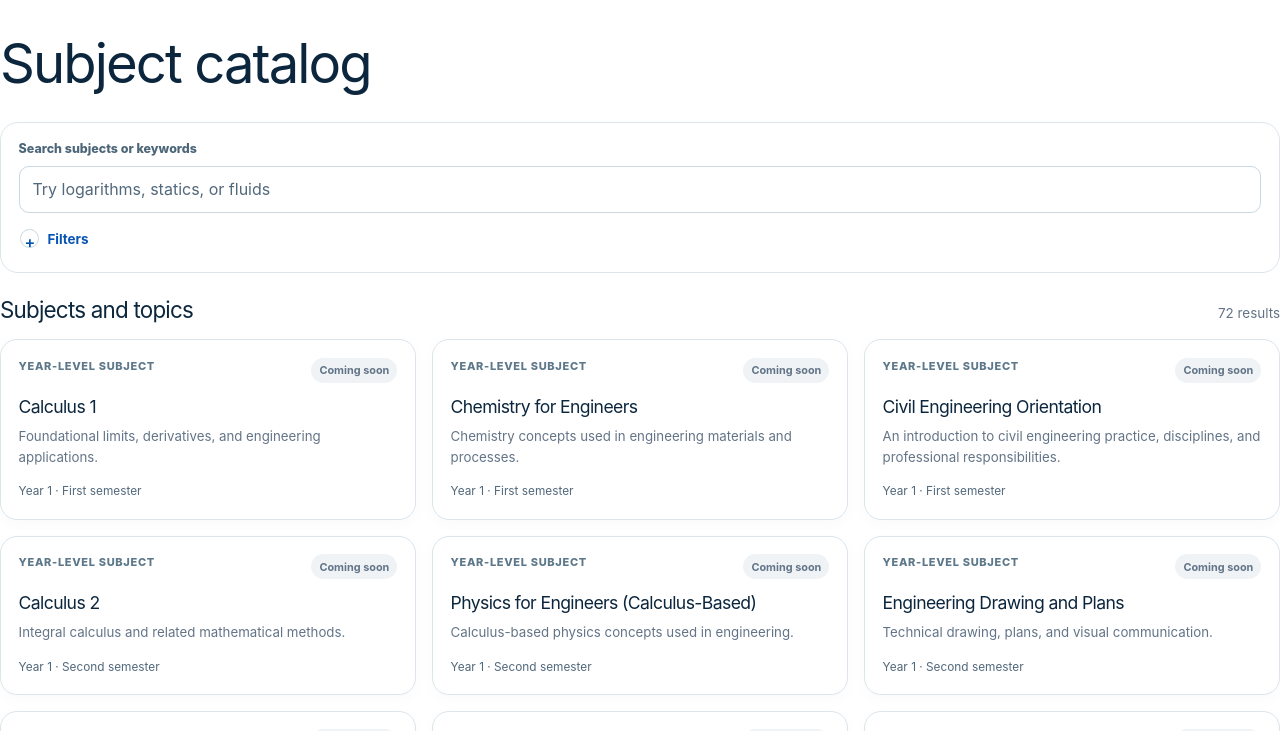
Scenario: catalog pages › filters unassigned math foundations and clears all filter values
Click the heading "Filters" at (54, 239), box left=19, top=223, right=90, bottom=254
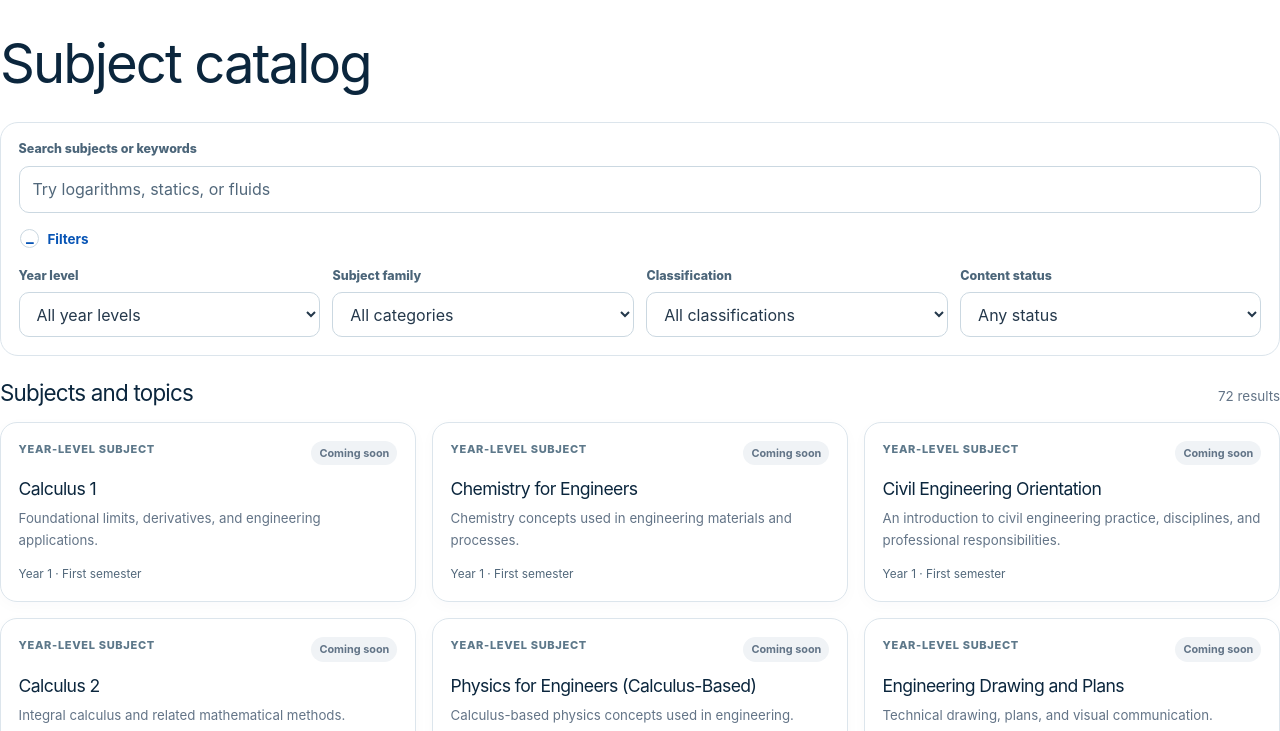
Select "Not assigned to a year" in the dropdown labelled "Year level" at (169, 315), box left=19, top=292, right=320, bottom=337
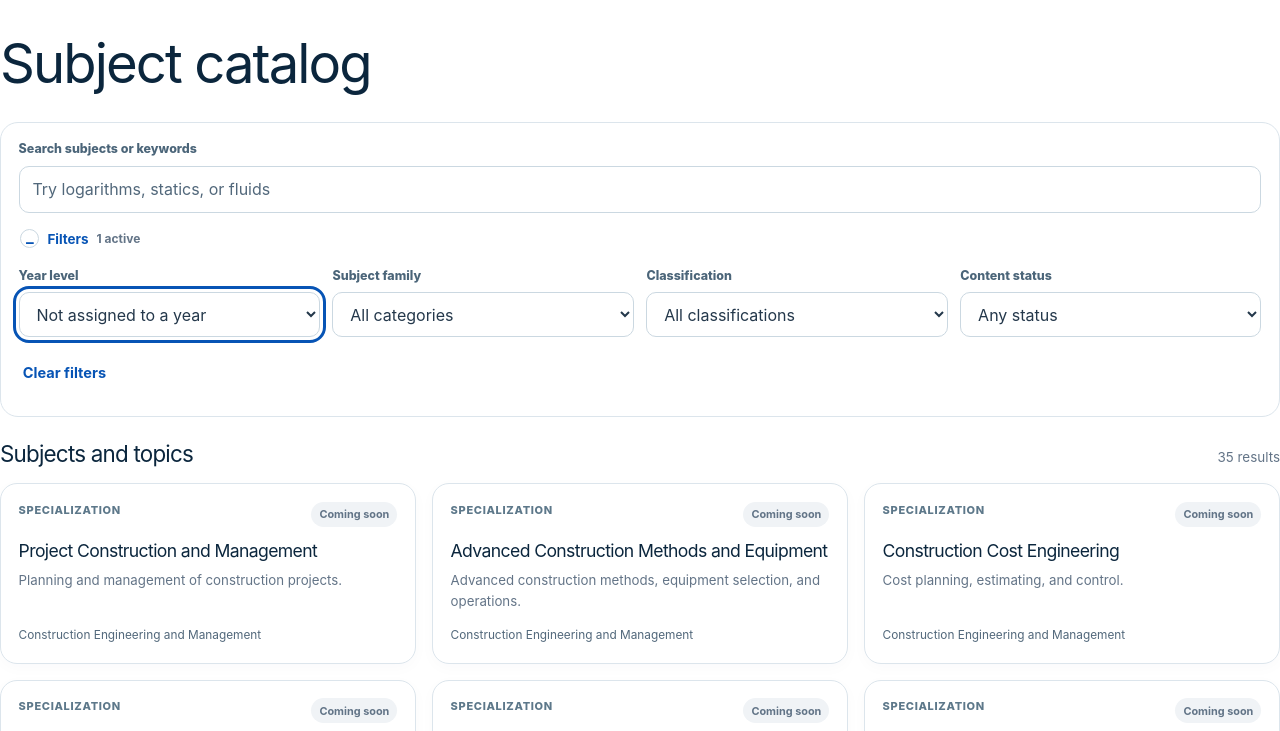
Select "Math foundations" in the dropdown labelled "Subject family" at (483, 315), box left=332, top=292, right=634, bottom=337
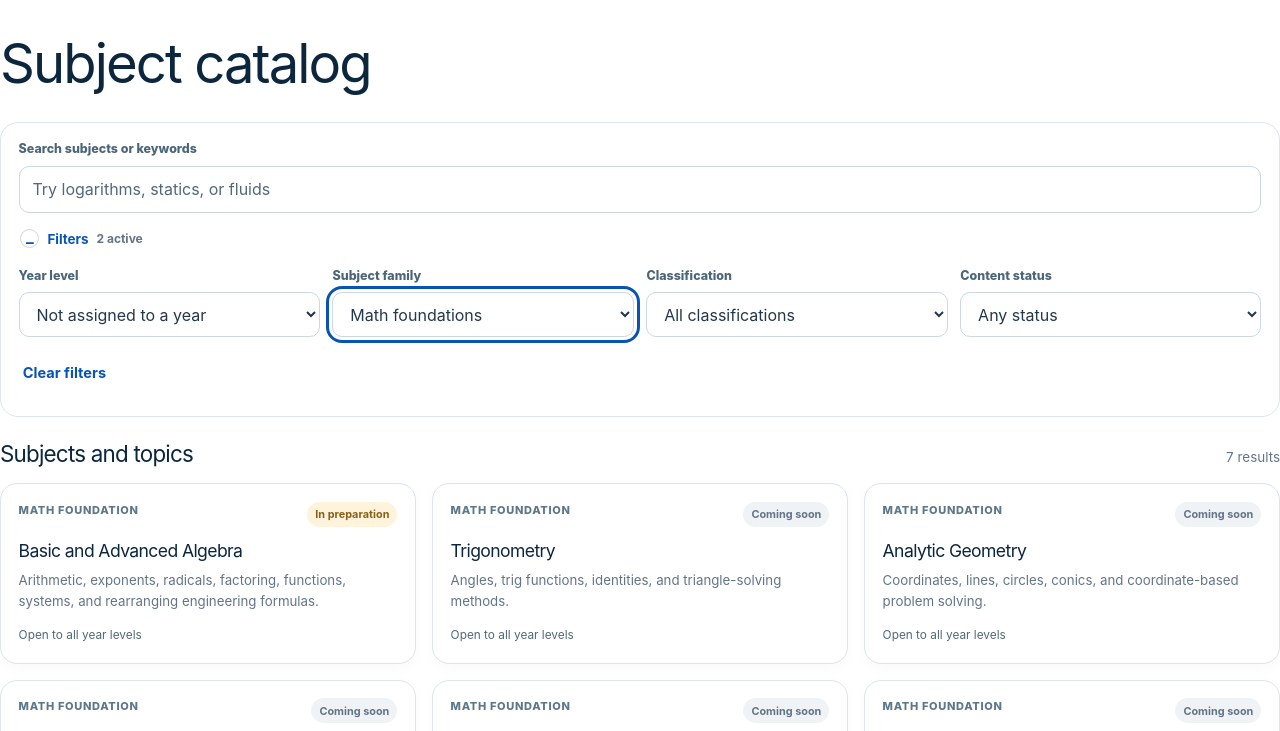
Select "Supplementary math" in the dropdown labelled "Classification" at (797, 315), box left=646, top=292, right=948, bottom=337
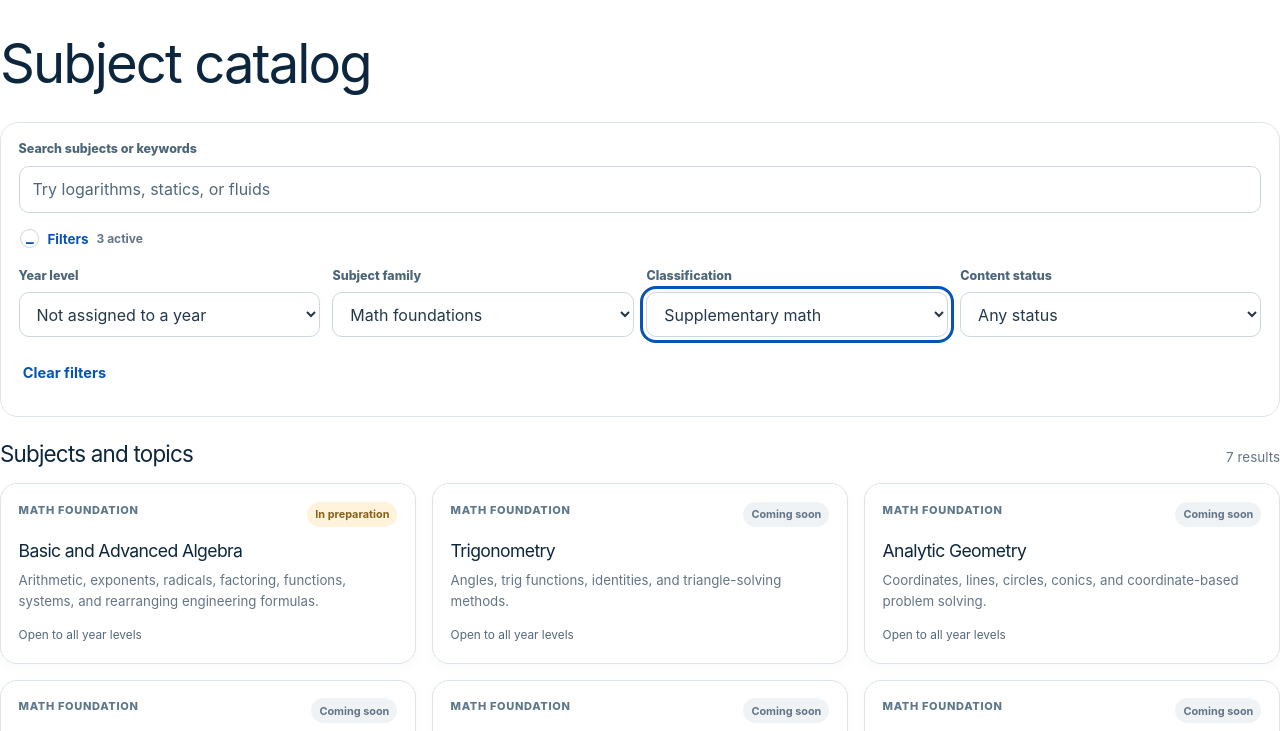
Select "In preparation" in the dropdown labelled "Content status" at (1111, 315), box left=960, top=292, right=1261, bottom=337
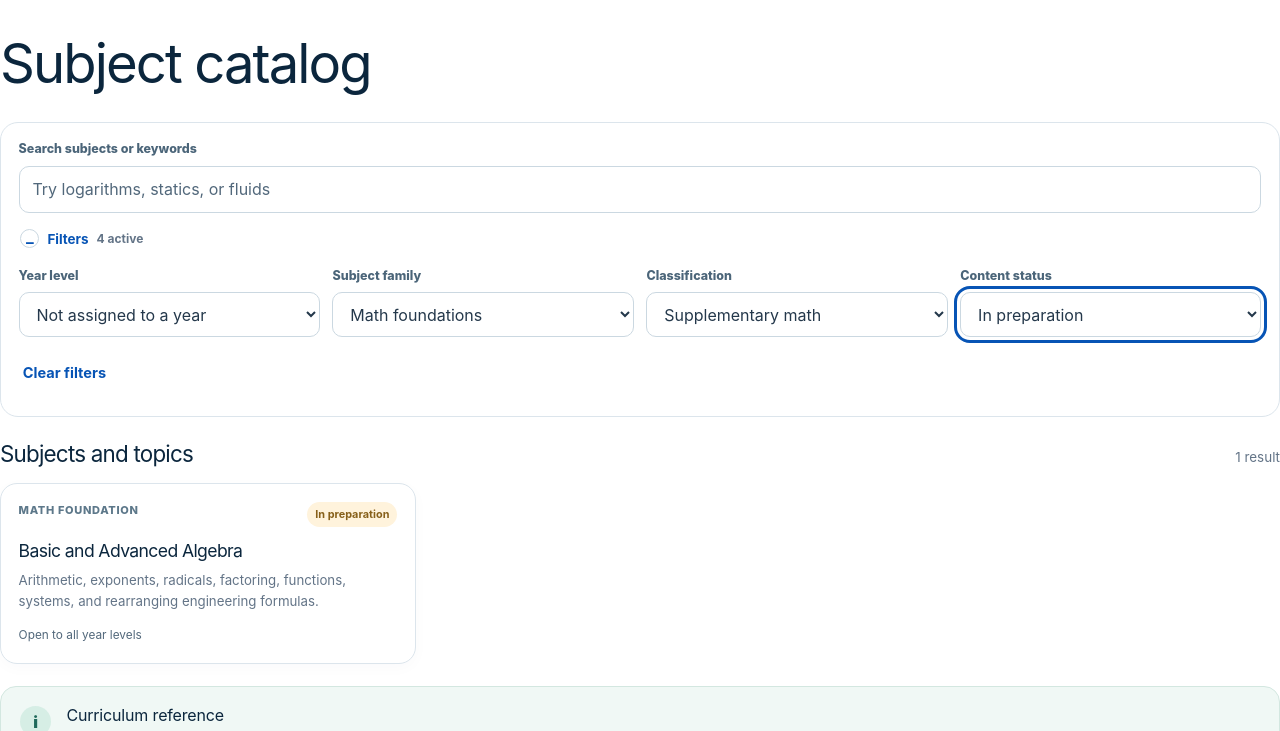
Expected: the text "1 result" is shown, left=1235, top=447, right=1279, bottom=467
Click the button "Clear filters" at (64, 374), box left=19, top=349, right=110, bottom=399
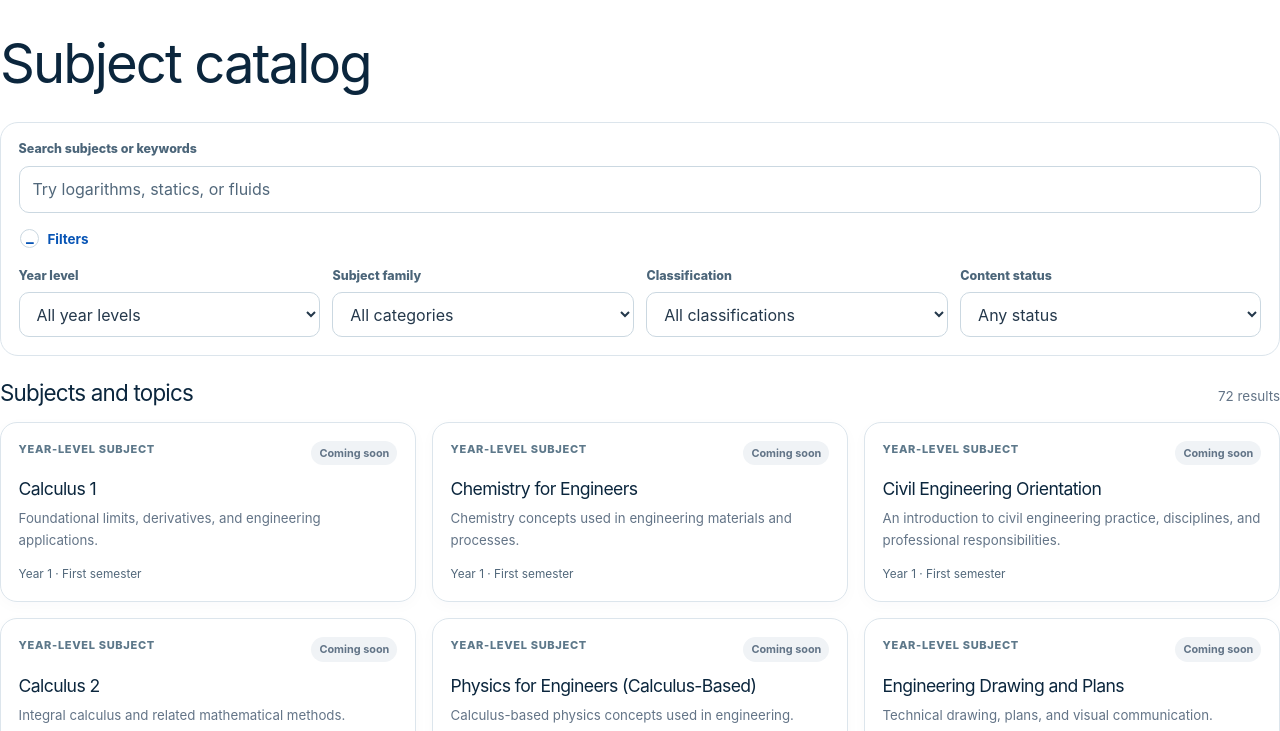
Expected: the search field labelled "Search subjects or keywords" is empty, left=19, top=166, right=1261, bottom=213
Expected: the text "72 results" is shown, left=1218, top=386, right=1279, bottom=406
Expected: the link "Calculus 1" is shown, left=0, top=422, right=416, bottom=602
